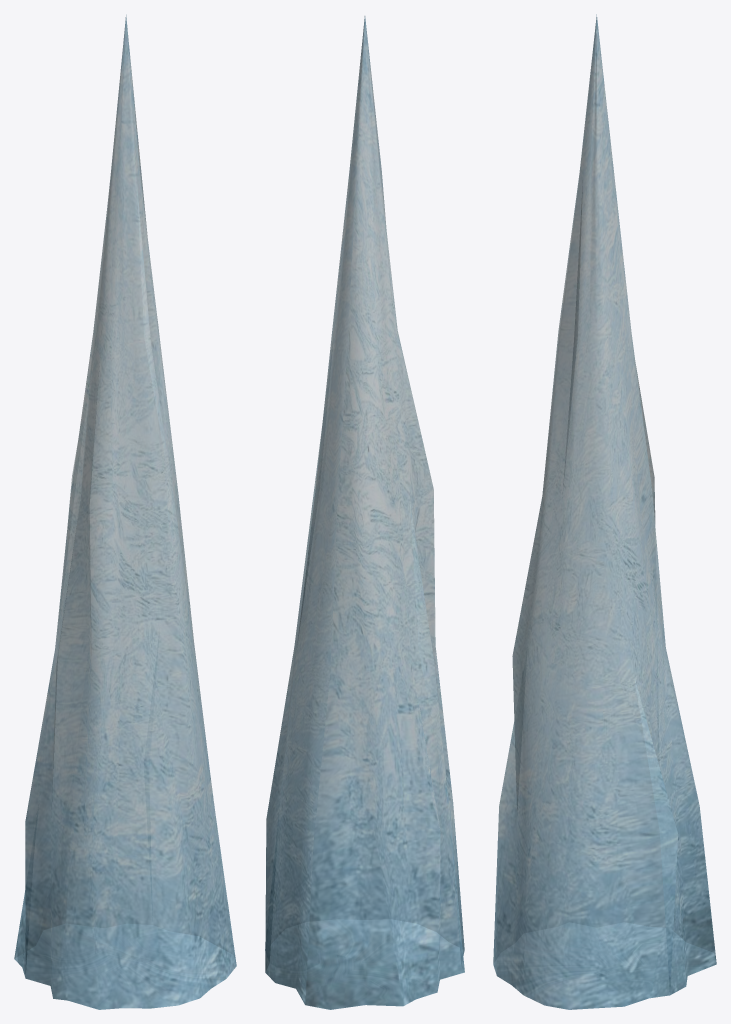
File: icecone.FBX
The picture shows the model from 3 angles, left to right: view 1: azimuth 30°, elevation 25°; view 2: azimuth 150°, elevation 25°; view 3: azimuth 270°, elevation 25°; orthographic projection.
Parts seen in each view (by area): view 1: Cone001; view 2: Cone001; view 3: Cone001.
Part boxes in pixels (x1,y1,x2,y2): Cone001: [14, 14, 236, 1009]; Cone001: [265, 16, 464, 1009]; Cone001: [493, 14, 716, 1009].
Size of the model in its own units: 11.76 by 58.95 by 12.56.
